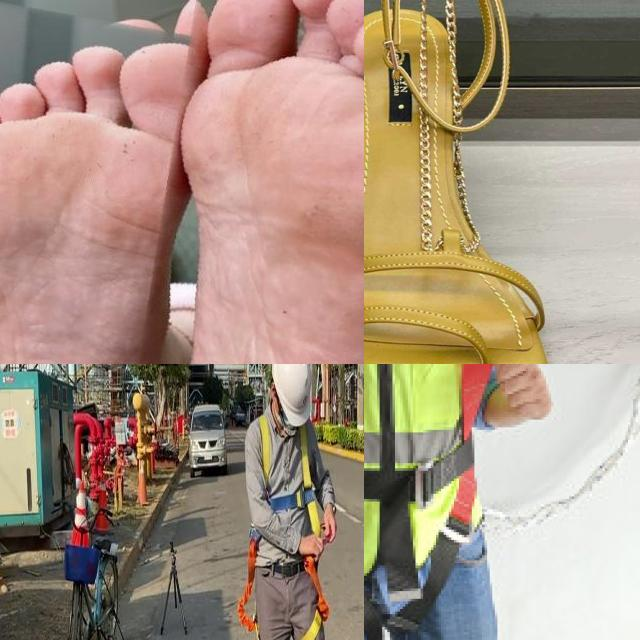Barefoots: (130, 0, 364, 364), (0, 0, 210, 364)
Harness: (364, 364, 495, 632), (259, 415, 320, 534), (237, 529, 261, 640), (300, 557, 330, 640)
Sandals: (364, 0, 603, 364)
